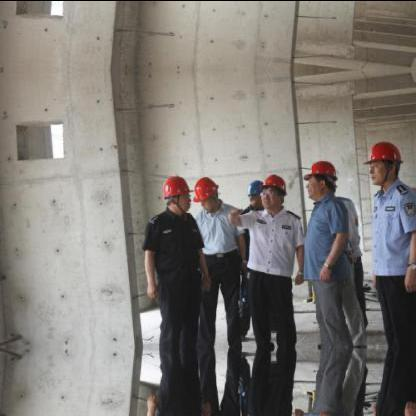Helmet: (364, 138, 402, 184), (302, 158, 338, 196), (159, 173, 191, 215), (258, 168, 288, 208), (191, 174, 219, 208), (244, 177, 262, 207)
